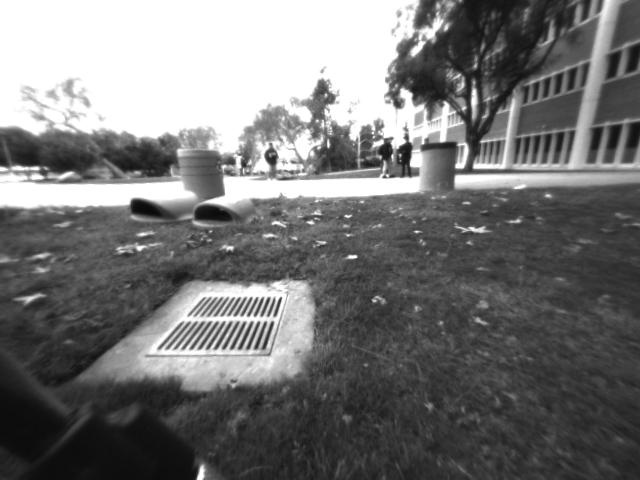trashcan: (171, 141, 231, 199), (414, 137, 463, 197)
